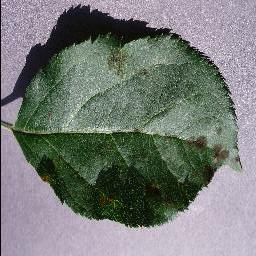apple healthy: (2, 4, 243, 229)
